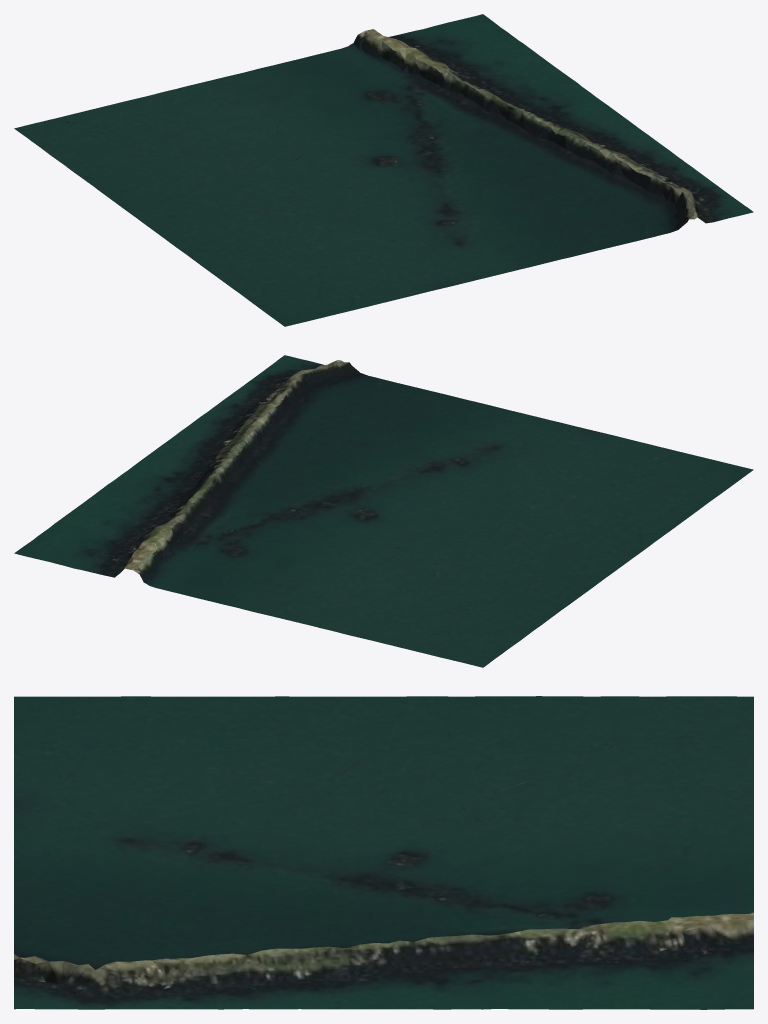
3 views of the same model, one above another, from view 1: azimuth 30°, elevation 25°; view 2: azimuth 150°, elevation 25°; view 3: azimuth 270°, elevation 25° (orthographic). The views are drawn at different scales.
Size of the model in its own units: 209 by 5.71 by 209.
3 materials, 3 textured.
